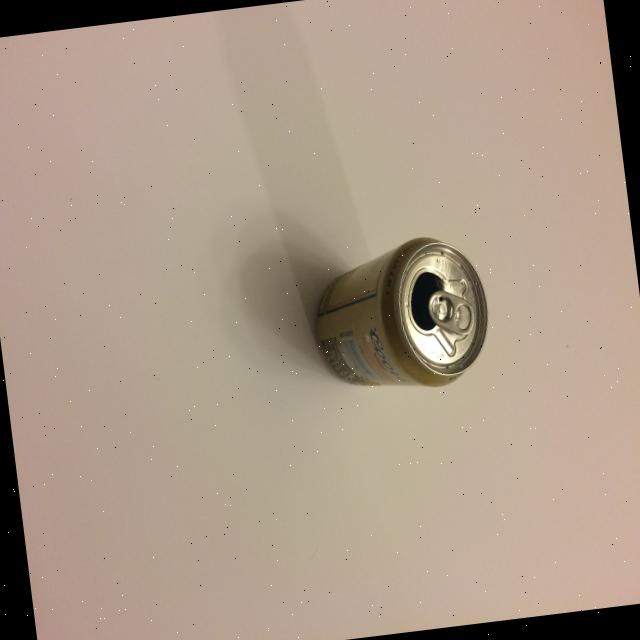metal: (306, 228, 497, 400)
